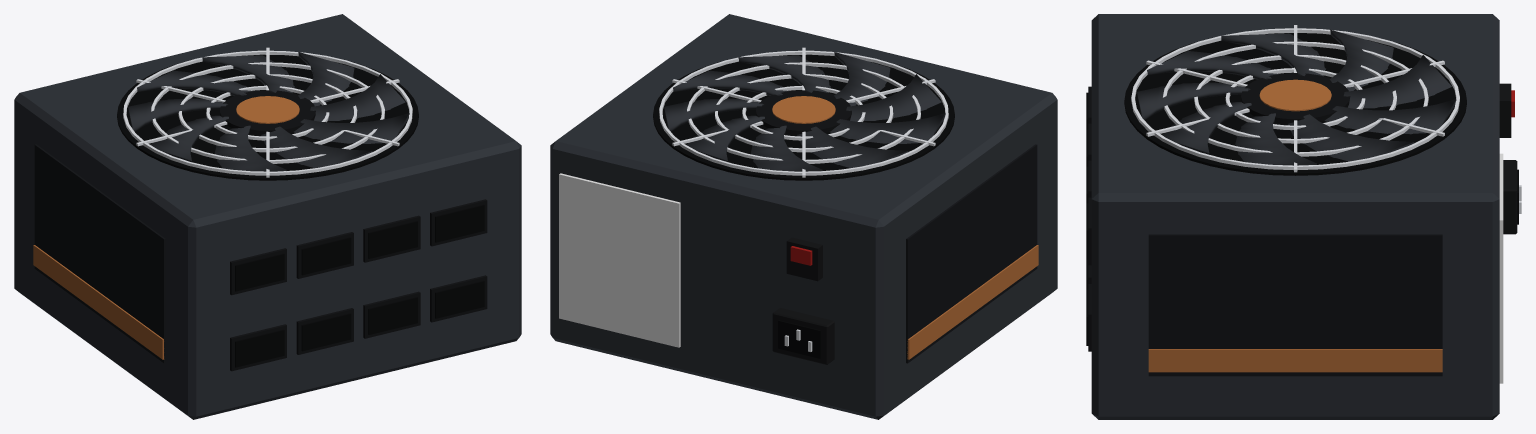
File: hw_psu_600w_bronze.glb
3 views of the same model, side by side, from view 1: azimuth 30°, elevation 25°; view 2: azimuth 150°, elevation 25°; view 3: azimuth 270°, elevation 25° (orthographic). The views are drawn at different scales.
Parts seen in each view (by area): view 1: Body, Rotor_Y_0; view 2: Body, Rotor_Y_0; view 3: Body, Rotor_Y_0.
Part boxes in pixels (<box>): Body: <box>14,14,521,419</box>; Rotor_Y_0: <box>128,52,409,171</box>; Body: <box>550,14,1057,419</box>; Rotor_Y_0: <box>664,52,945,171</box>; Body: <box>1086,14,1521,419</box>; Rotor_Y_0: <box>1137,29,1456,165</box>.
Size of the model in its own units: 0.1528 by 0.0894 by 0.1493.
